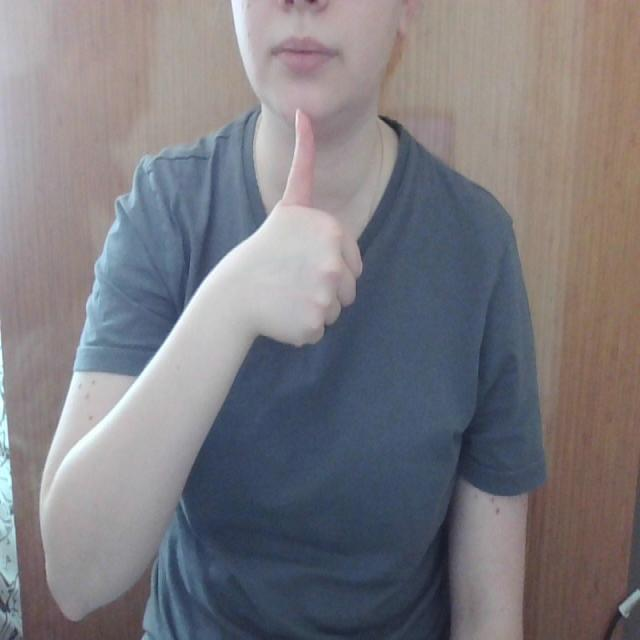Baba: (252, 36, 350, 196)
